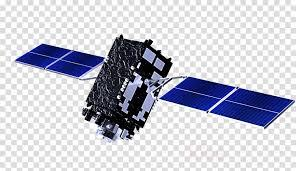body: (83, 32, 175, 144)
solar: (157, 75, 296, 131), (13, 42, 107, 80)
